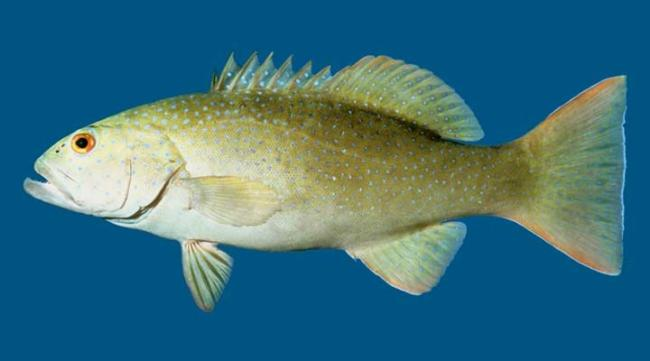fish: (22, 48, 629, 314)
